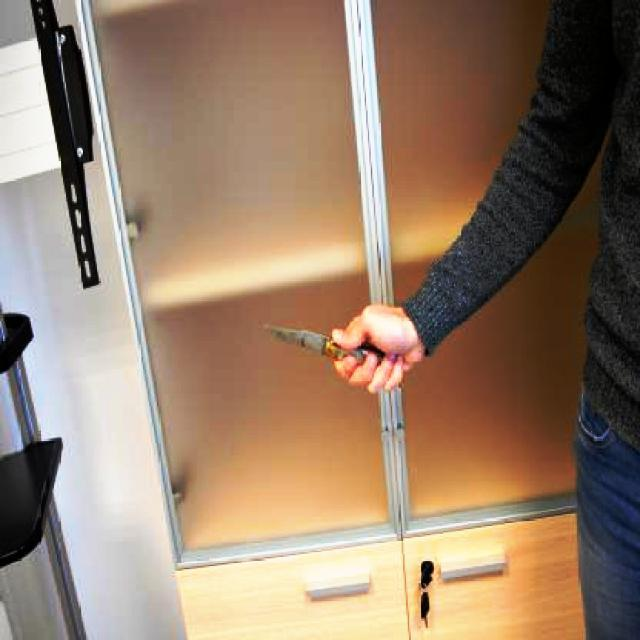Knife: (252, 312, 378, 382)
